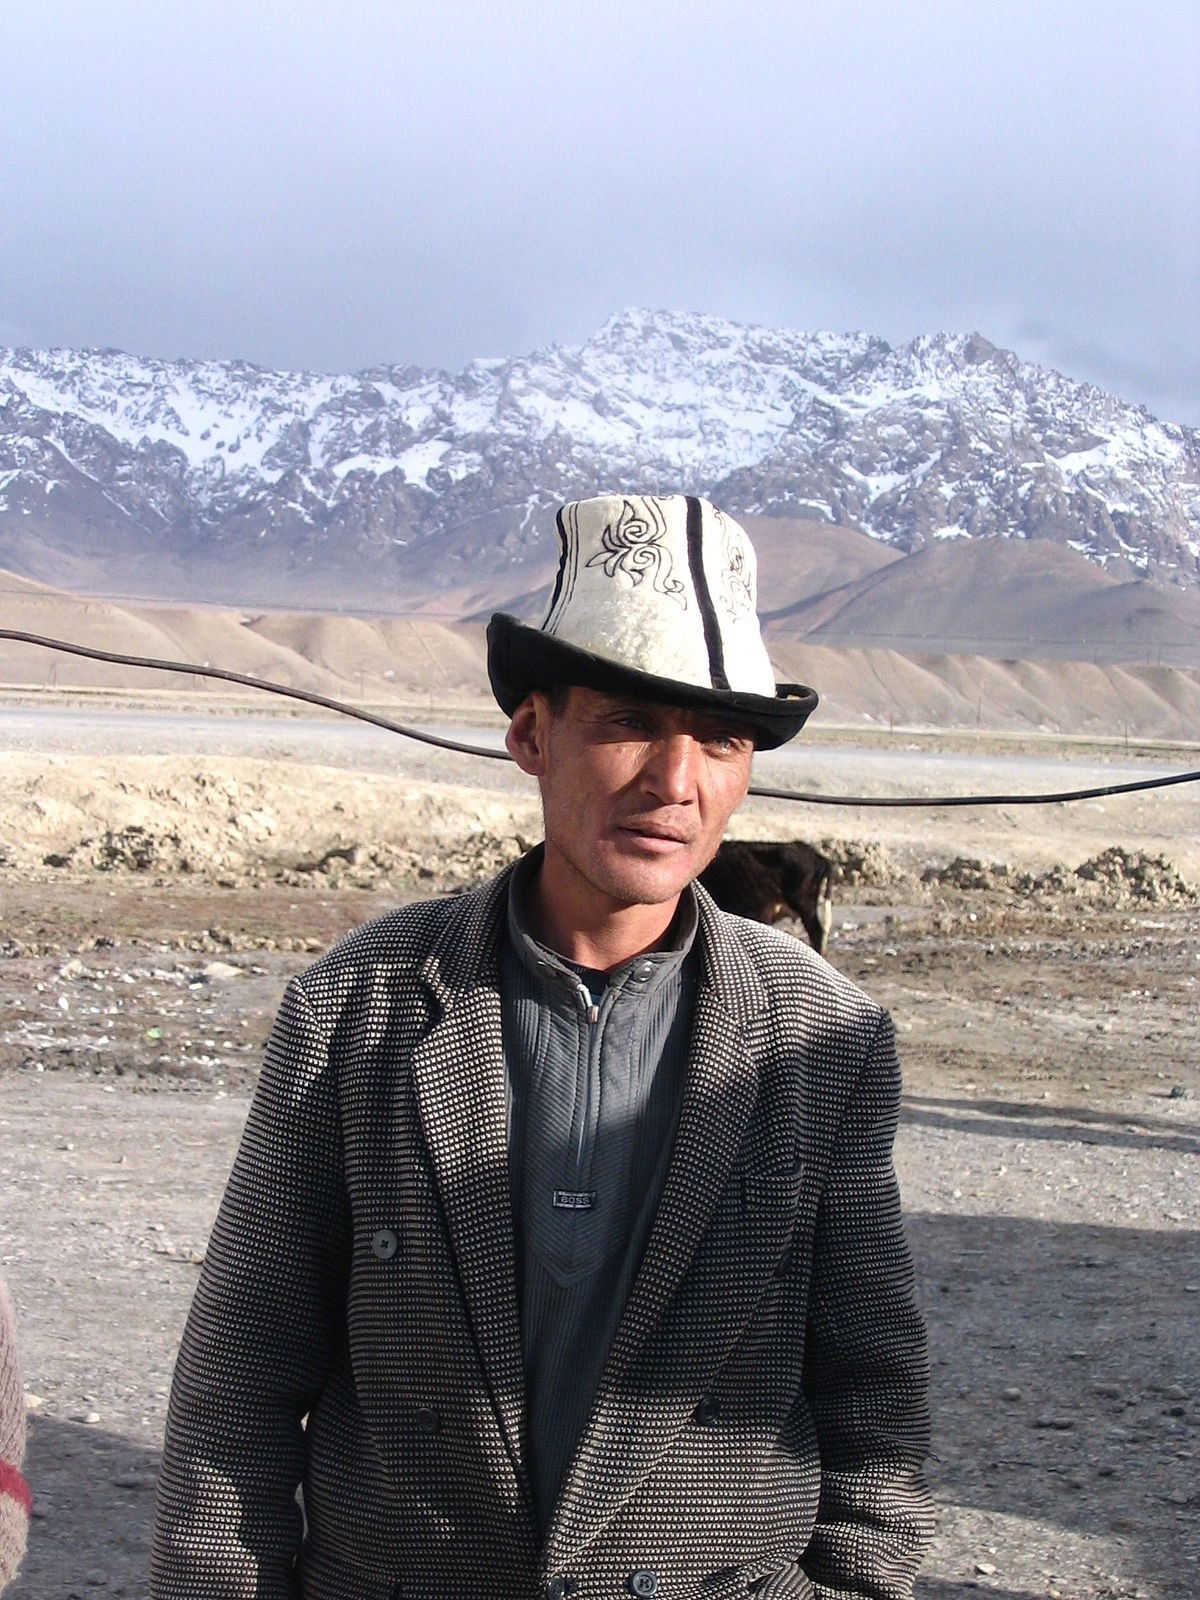face_no_mask: (512, 649, 777, 898)
